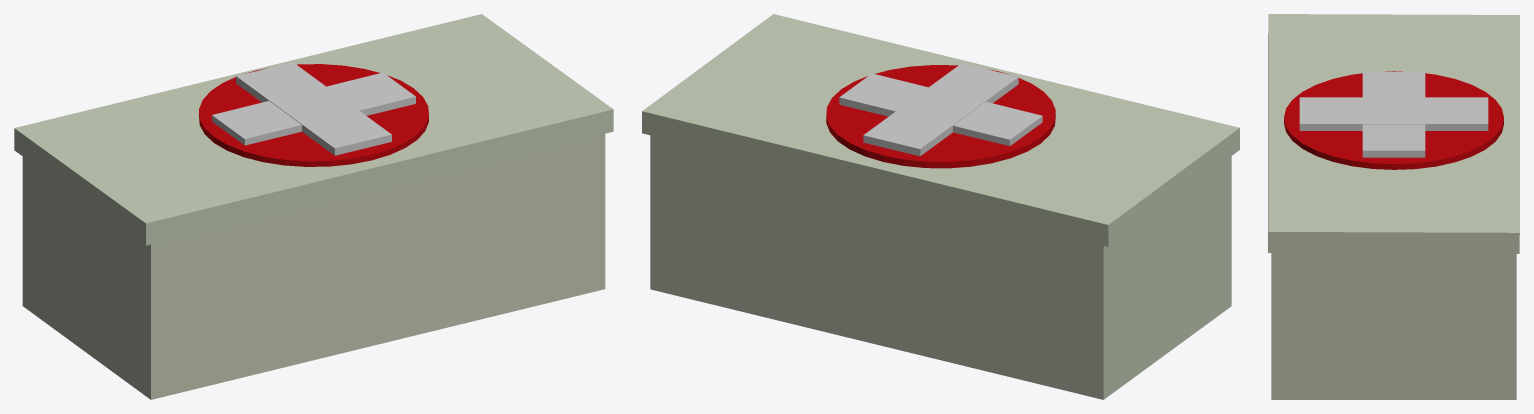
File: Medkit.fbx
3 renders of one model, left to right at view 1: azimuth 30°, elevation 25°; view 2: azimuth 150°, elevation 25°; view 3: azimuth 270°, elevation 25°, orthographic. The views are drawn at different scales.
Parts seen in each view (by area): view 1: Cube, Cube.006, Cube.004, Cylinder; view 2: Cube, Cube.006, Cube.004, Cylinder; view 3: Cube.006, Cube, Cube.004, Cylinder.
Part boxes in pixels (x1=…): Cube: x1=22, y1=134, x2=605, y2=399; Cube.006: x1=14, y1=14, x2=613, y2=245; Cube.004: x1=212, y1=62, x2=415, y2=155; Cylinder: x1=199, y1=64, x2=428, y2=166; Cube: x1=650, y1=135, x2=1231, y2=399; Cube.006: x1=642, y1=14, x2=1239, y2=246; Cube.004: x1=839, y1=63, x2=1042, y2=156; Cylinder: x1=826, y1=65, x2=1055, y2=168; Cube.006: x1=1268, y1=14, x2=1519, y2=253; Cube: x1=1271, y1=253, x2=1516, y2=399; Cube.004: x1=1299, y1=71, x2=1488, y2=157; Cylinder: x1=1284, y1=71, x2=1503, y2=169.
Bounding box in the file's own units: 164 × 64.37 × 80.03.
